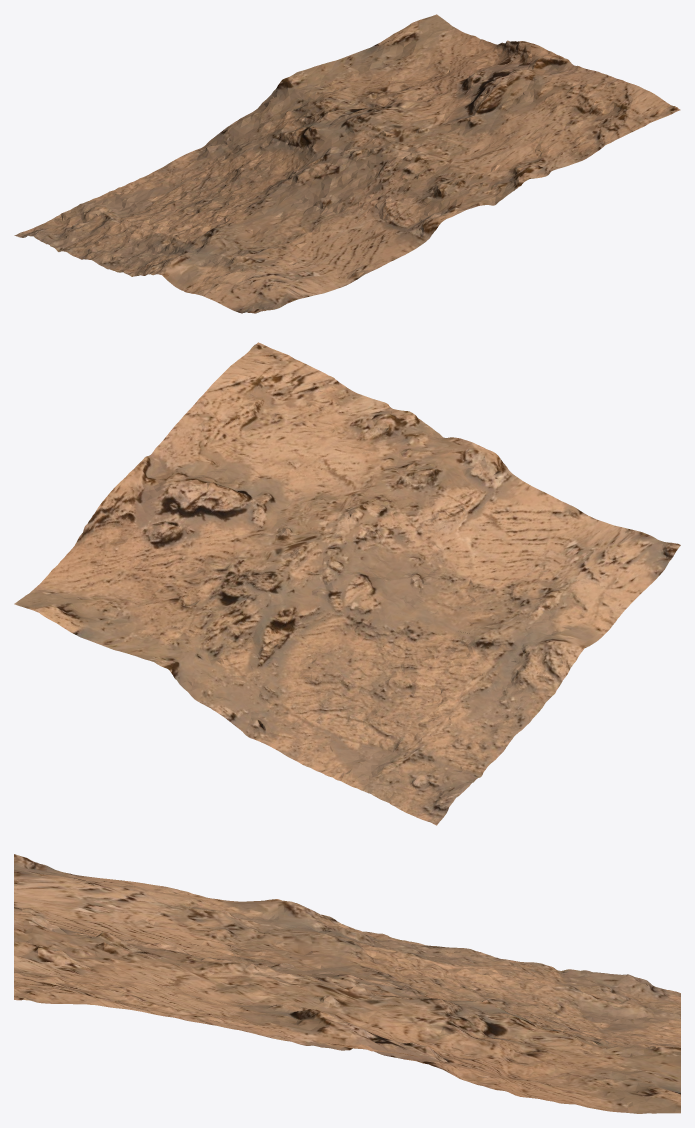
3 views of the same model, one above another, from view 1: azimuth 30°, elevation 25°; view 2: azimuth 150°, elevation 25°; view 3: azimuth 270°, elevation 25° (orthographic). The views are drawn at different scales.
Bounding box in the file's own units: 4.18 × 1.91 × 4.18.
2 materials, 2 textured.
